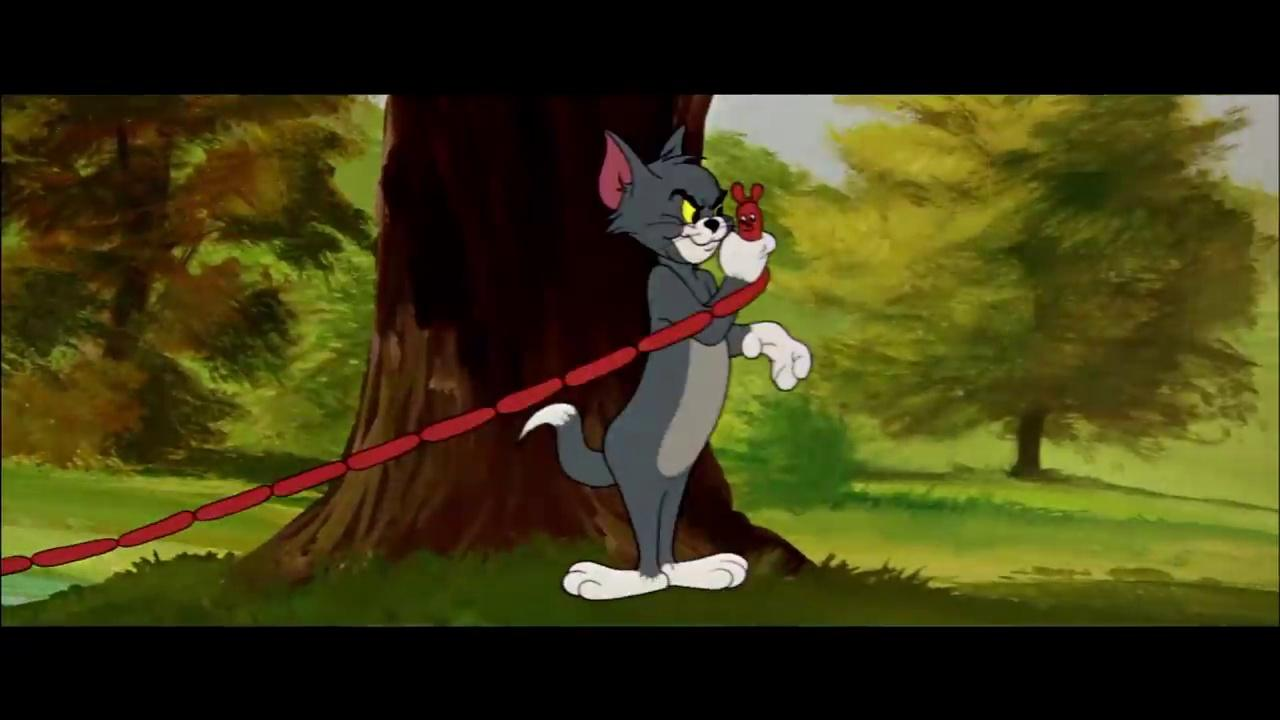Tom: (515, 122, 814, 603)
